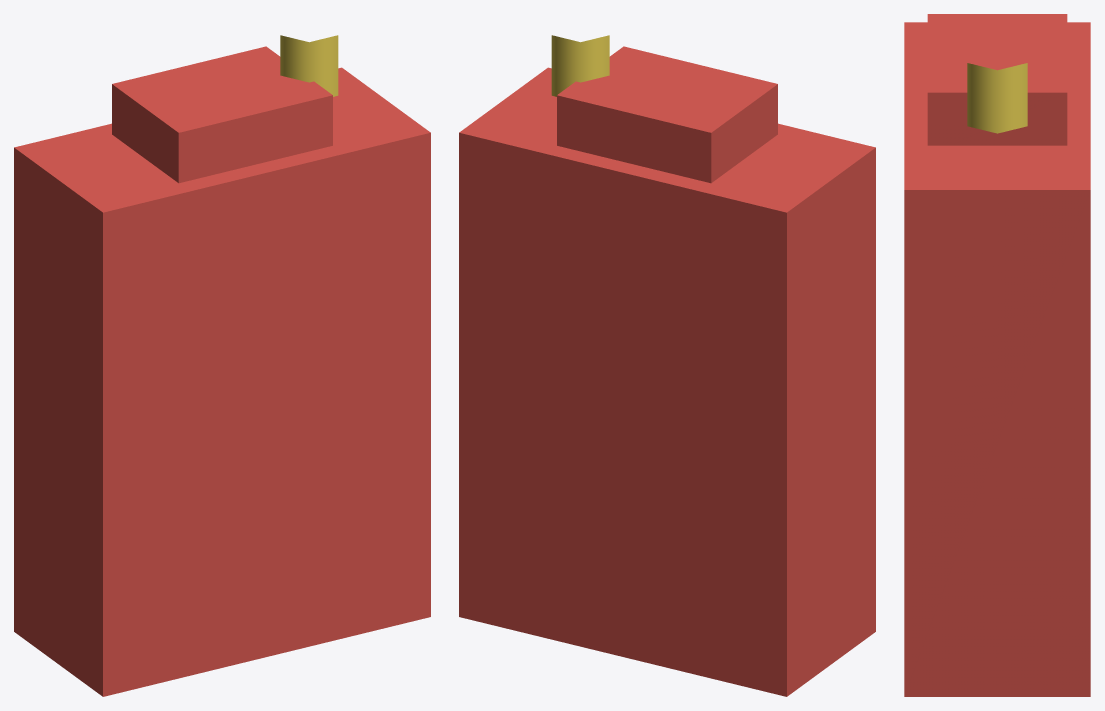
The model's file is jerry_can.glb.
3 views of the same model, side by side, from view 1: azimuth 30°, elevation 25°; view 2: azimuth 150°, elevation 25°; view 3: azimuth 270°, elevation 25° (orthographic). The views are drawn at different scales.
Parts seen in each view (by area): view 1: jerry_can; view 2: jerry_can; view 3: jerry_can.
Part boxes in pixels (bbox=[...]): jerry_can: bbox=[14, 35, 430, 696]; jerry_can: bbox=[459, 35, 875, 696]; jerry_can: bbox=[904, 14, 1090, 696].
Size of the model in its own units: 0.34 by 0.57 by 0.16.
